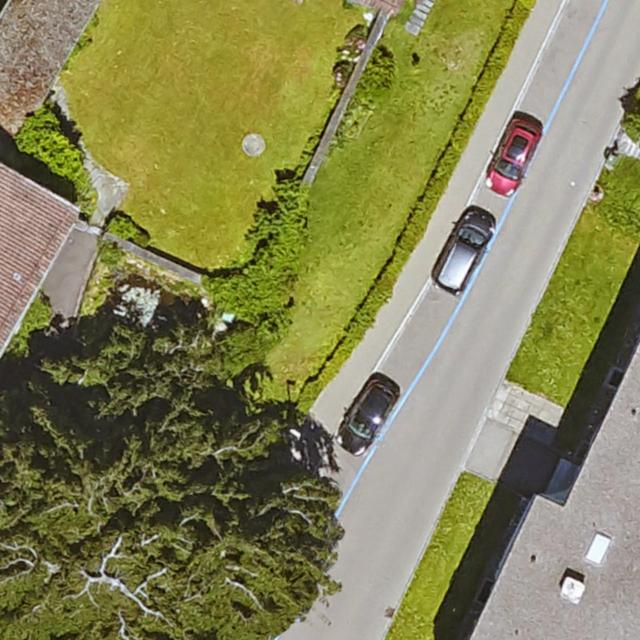tree: (0, 330, 335, 640)
